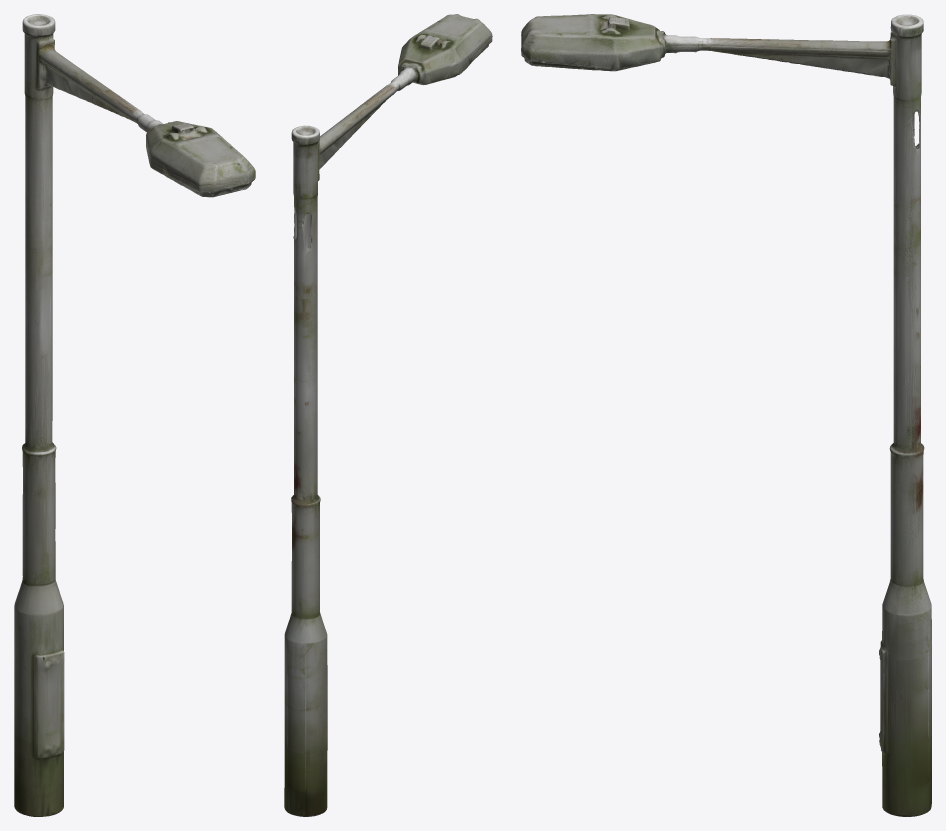
Rendered from prop_street_light.glb.
The picture shows the model from 3 angles, left to right: view 1: azimuth 30°, elevation 25°; view 2: azimuth 150°, elevation 25°; view 3: azimuth 270°, elevation 25°; orthographic projection. The views are drawn at different scales.
Visible parts, largest first — view 1: Mesh_0; view 2: Mesh_0; view 3: Mesh_0.
Part boxes in pixels (x1,y1,x2,y2): Mesh_0: [14, 14, 255, 816]; Mesh_0: [284, 14, 492, 816]; Mesh_0: [521, 14, 931, 816].
Bounding box in the file's own units: 0.7218 × 8 × 3.78.
1 material, 1 textured.
